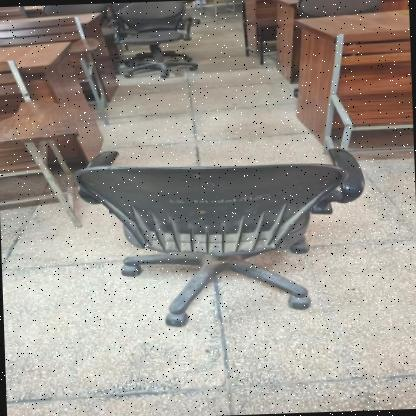chair: (70, 129, 376, 330)
